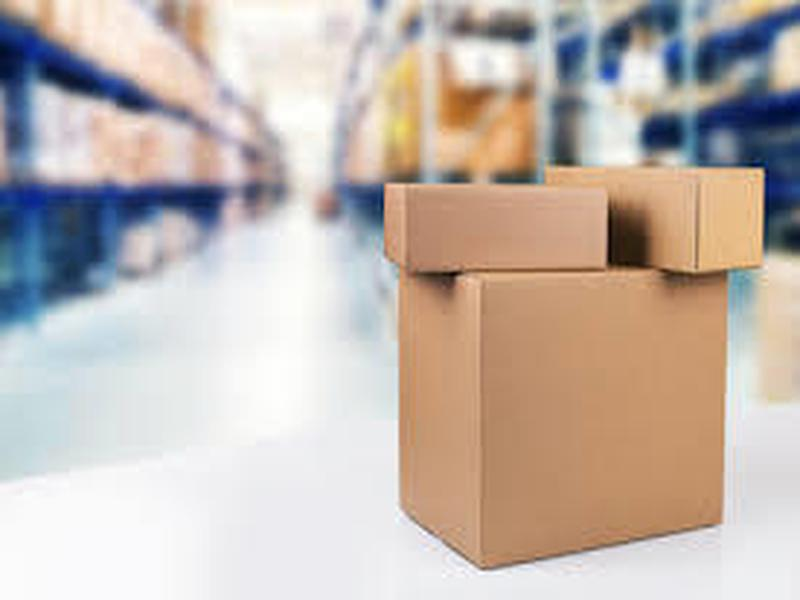package: (390, 264, 738, 575), (375, 172, 616, 279), (619, 156, 767, 281)
